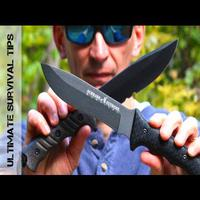knife: (27, 35, 180, 155), (38, 60, 168, 147)
